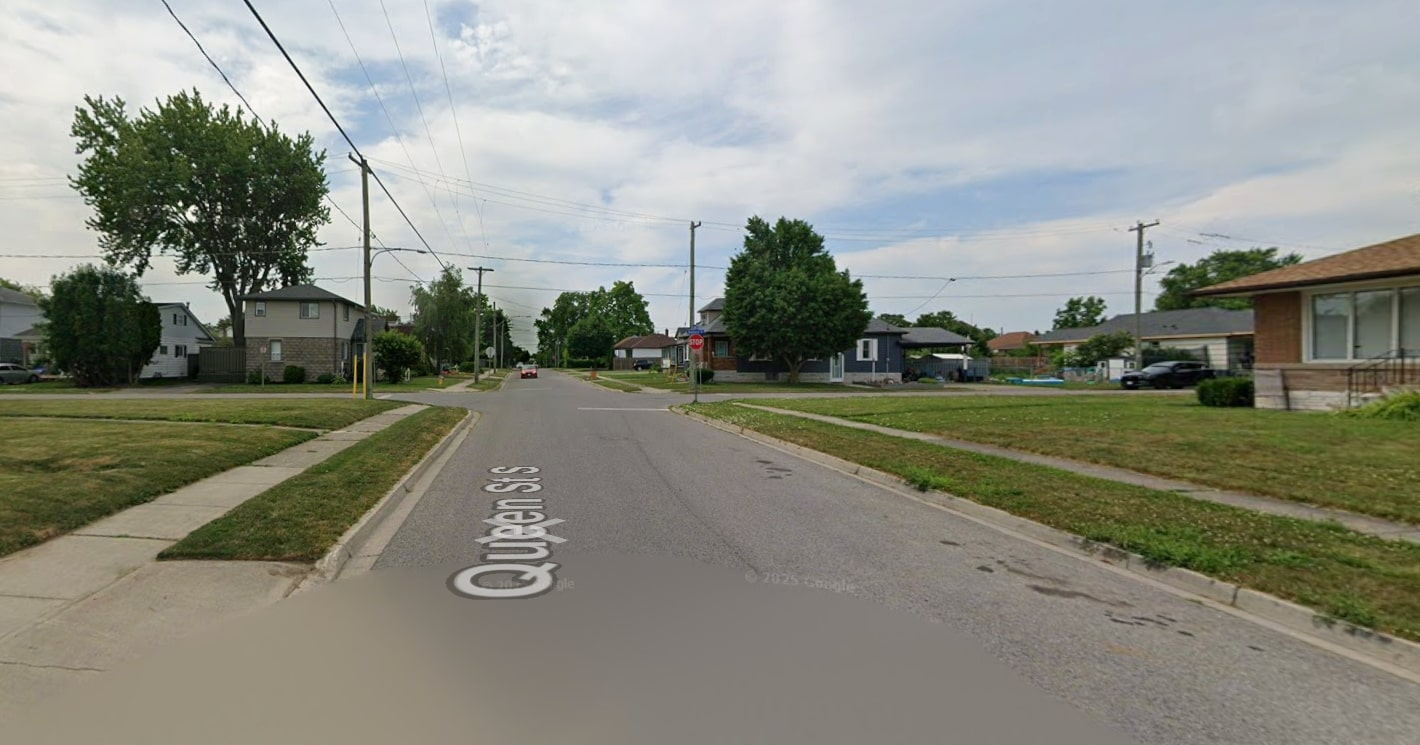cracks: (935, 530, 1259, 657), (743, 449, 805, 492)
